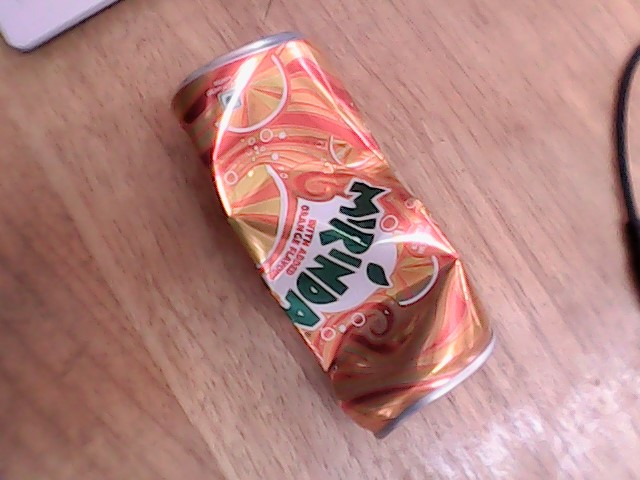Metal: (158, 43, 504, 470)
